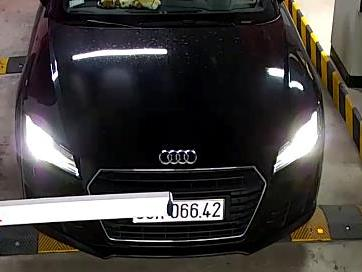number: (170, 201, 225, 222)
